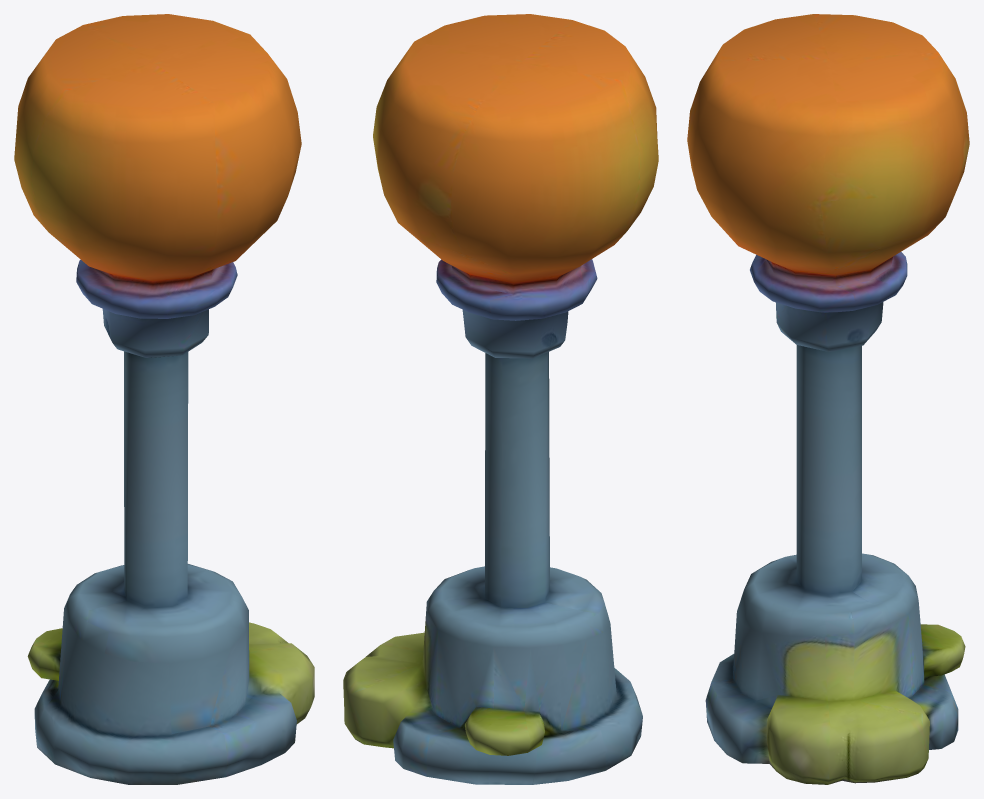
The model's file is beacon.glb.
3 renders of one model, left to right at view 1: azimuth 30°, elevation 25°; view 2: azimuth 150°, elevation 25°; view 3: azimuth 270°, elevation 25°, orthographic. The views are drawn at different scales.
Visible parts, largest first — view 1: tripo_node_15709a13-9b90-41fe-9c7b-b6123503bc03; view 2: tripo_node_15709a13-9b90-41fe-9c7b-b6123503bc03; view 3: tripo_node_15709a13-9b90-41fe-9c7b-b6123503bc03.
Part boxes in pixels (box(x1,y1,x2,y2)): tripo_node_15709a13-9b90-41fe-9c7b-b6123503bc03: box(14, 14, 314, 784); tripo_node_15709a13-9b90-41fe-9c7b-b6123503bc03: box(343, 14, 658, 784); tripo_node_15709a13-9b90-41fe-9c7b-b6123503bc03: box(687, 14, 969, 784).
Bounding box in the file's own units: 0.4277 × 0.998 × 0.3887.
Materials: 1 (1 with a texture image).
